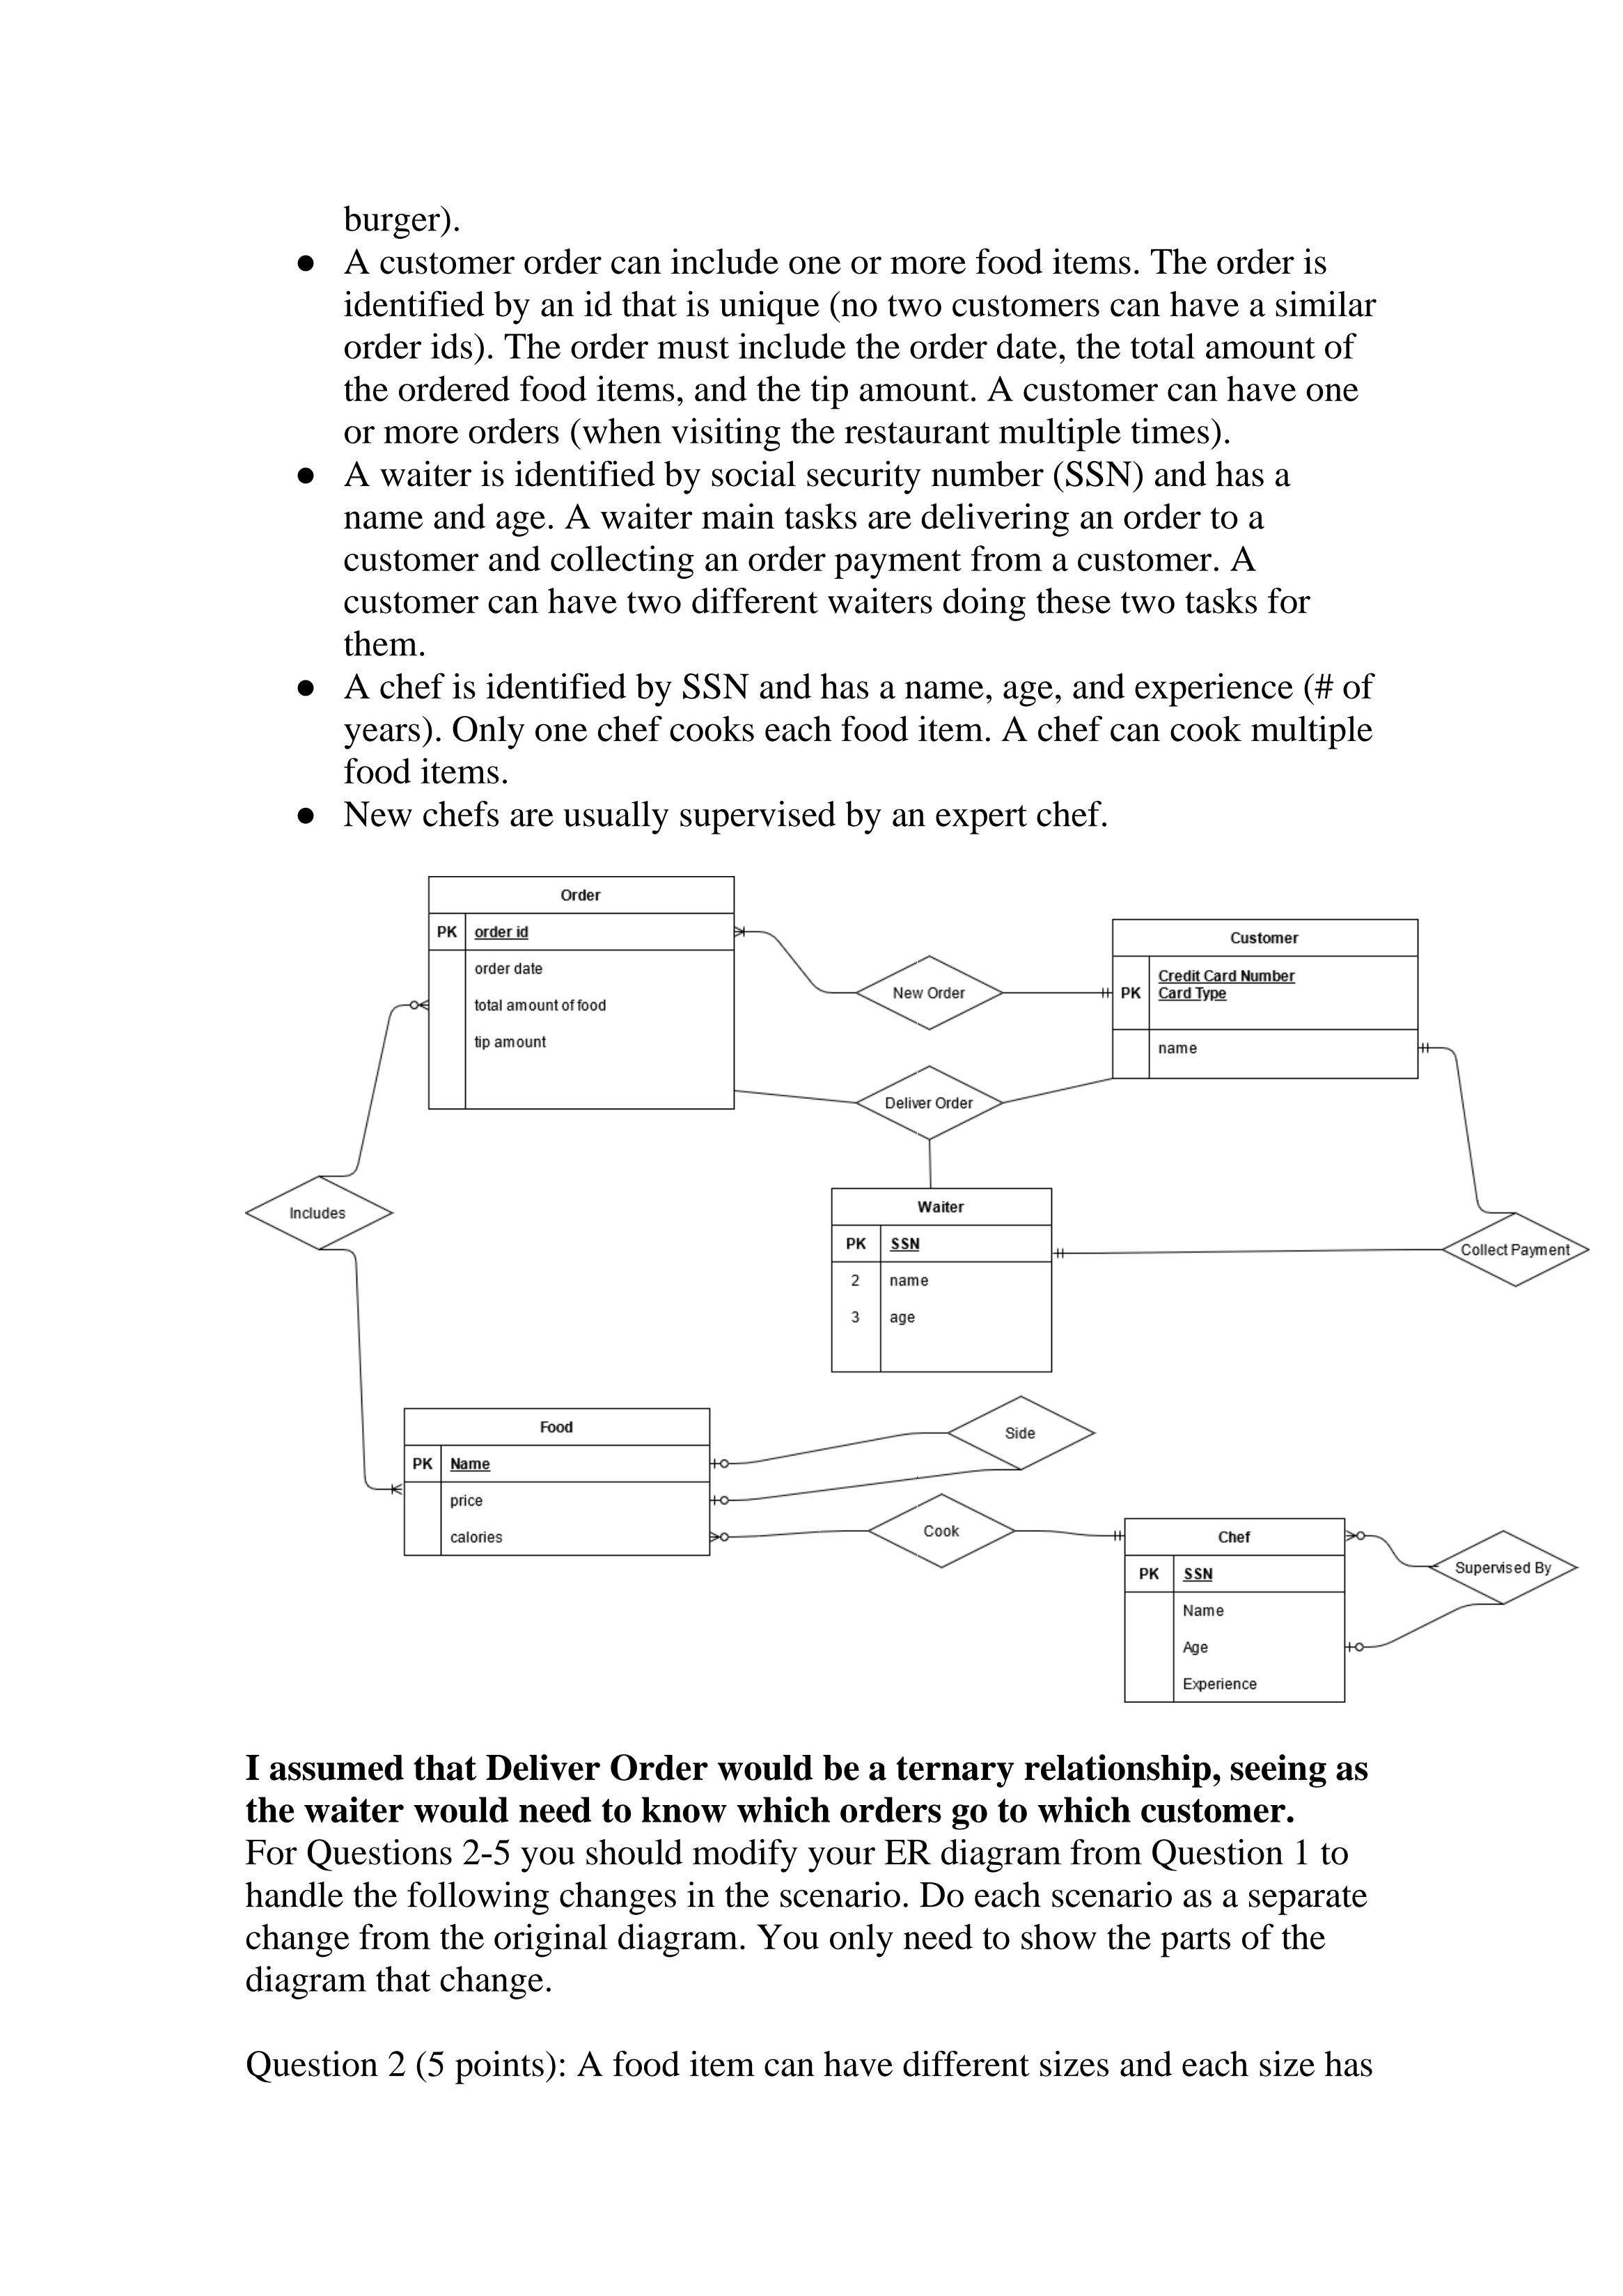Entity: (427, 877, 734, 1110), (1112, 917, 1419, 1080), (402, 1407, 711, 1556), (831, 1188, 1054, 1374), (1124, 1518, 1347, 1704)
Relationship: (855, 954, 1003, 1031), (868, 1493, 1015, 1569), (1428, 1530, 1579, 1604), (1442, 1212, 1590, 1288), (855, 1065, 1003, 1140), (947, 1395, 1096, 1469), (244, 1175, 395, 1247)
